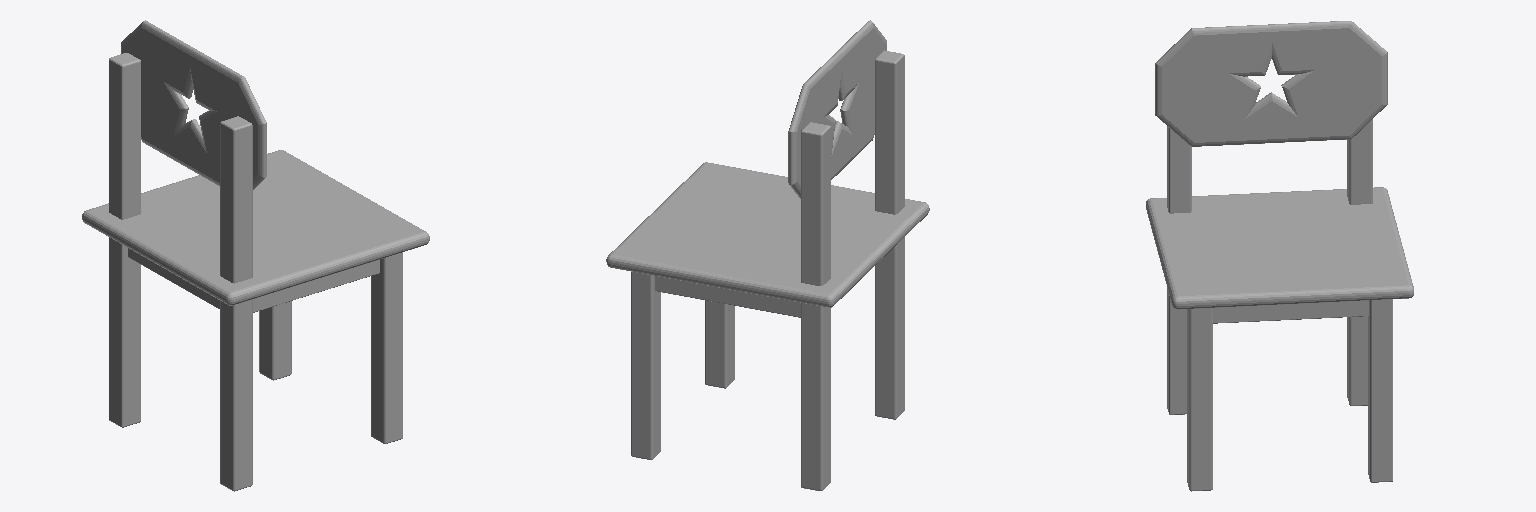
URDF robot description (chair):
<robot name="chair">
	<link name="base_link">
		<visual>
			<geometry>
				<mesh filename="package://nao/meshes/Chair.dae" scale="0.011 0.011 0.011"/>
			</geometry>
			<material name="LightGrey">
				<color rgba="0.7 0.7 0.7 1.0"/>
			</material>
		</visual>
		<collision>
			<geometry>
				<mesh filename="package://nao/meshes/Chair.dae" />
			</geometry>
		</collision>
	</link>
</robot>

--- Render facts (derived) ---
Views: 3 orthographic renders of the robot side by side, from view 1: azimuth 30°, elevation 25°; view 2: azimuth 150°, elevation 25°; view 3: azimuth 270°, elevation 25°.
Model chair with 1 links and 0 joints (none), rooted at base_link, posed all joints at 0.
Links seen in each view (by area): view 1: base_link; view 2: base_link; view 3: base_link.
Boxes of the visible links, bbox=[...] form: base_link: bbox=[82, 20, 429, 491]; base_link: bbox=[606, 20, 929, 490]; base_link: bbox=[1146, 21, 1413, 491].
Bounding box of the posed robot: 0.167 × 0.167 × 0.266 m (x, y, z).
1 mesh visuals loaded from 1 distinct referenced files (1 Collada DAE).